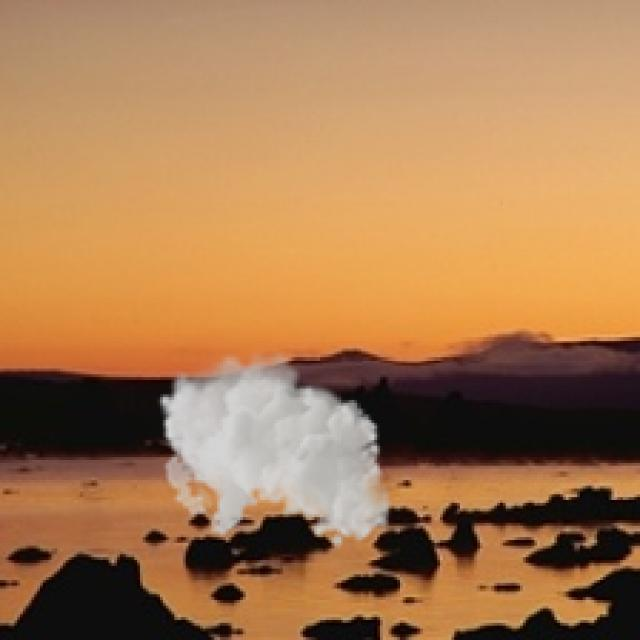Smoke: (157, 346, 392, 548)
